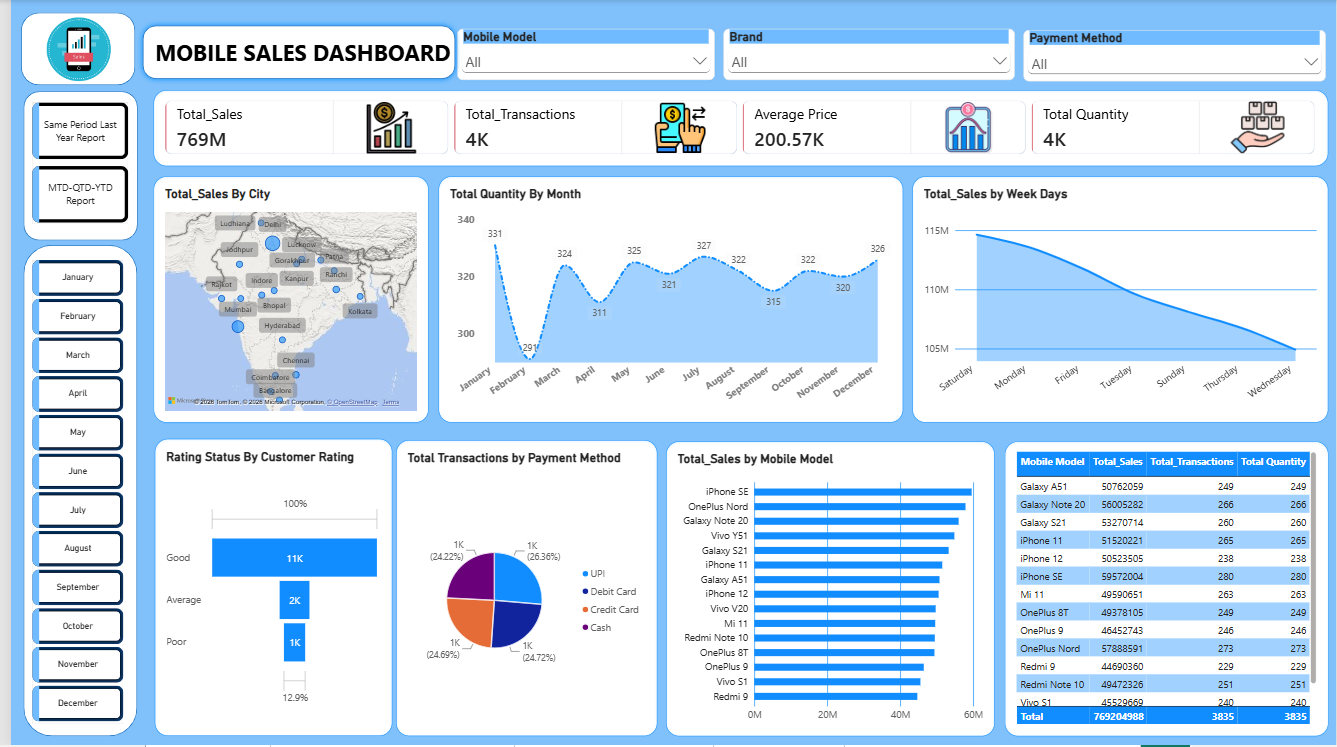

Layout of this report page (visuals, bound fields, positions):
{"tool":"powerbi","page":{"name":"DashBoard","canvas":[1920,1080],"ordinal":0},"visuals":[{"type":"shape","box":[14.6,18.5,165.4,105.4],"z":0},{"type":"image","box":[24.6,25.4,145.4,92.3],"z":1000},{"type":"shape","box":[18.1,354.7,164.7,711.2],"z":2000},{"type":"shape","box":[18.3,131.7,165.4,216.2],"z":3000},{"type":"advancedSlicerVisual","fields":{"Values":["Custom_Calender.Date.Variation.Date Hierarchy.Month"]},"box":[30.8,376.4,132.1,671.4],"z":4000},{"type":"cardVisual","fields":{"Data":["MoblieSales_Data.Total_Sales","MoblieSales_Data.Total_Transactions","MoblieSales_Data.Average Price","MoblieSales_Data.Total Quantity"]},"box":[206.3,130.3,1701.1,110.4],"z":5000},{"type":"slicer","fields":{"Values":["MoblieSales_Data.Mobile Model"]},"box":[646,41.6,372.8,74.2],"z":6000},{"type":"slicer","fields":{"Values":["MoblieSales_Data.Brand"]},"box":[1031.5,41.6,421.7,74.2],"z":7000},{"type":"slicer","fields":{"Values":["MoblieSales_Data.Payment Method"]},"box":[1466.2,43.4,437.9,74.2],"z":8000},{"type":"shape","box":[183.3,28.3,468.3,93.3],"z":9000},{"type":"textbox","box":[195,55,456.7,61.7],"z":10000},{"type":"map","title":" Total_Sales By City","fields":{"Category":["MoblieSales_Data.City"],"Size":["MoblieSales_Data.Total_Sales"]},"box":[206.3,255.2,398.1,356.5],"z":11000},{"type":"lineChart","title":"Total Quantity By Month","fields":{"Category":["Custom_Calender.Date.Variation.Date Hierarchy.Month"],"Y":["MoblieSales_Data.Total Quantity"]},"box":[618.9,255.2,673.2,356.5],"z":12000},{"type":"funnel","title":"Rating Status  By Customer Rating","fields":{"Category":["MoblieSales_Data.Rating Status"],"Y":["Sum(MoblieSales_Data.Customer Ratings)"]},"box":[208.1,635.2,343.8,430.7],"z":13000},{"type":"pieChart","title":"Total Transactions by Payment Method","fields":{"Category":["MoblieSales_Data.Payment Method"],"Y":["MoblieSales_Data.Total_Transactions"]},"box":[557.4,637,378.2,428.9],"z":14000},{"type":"clusteredBarChart","title":"Total_Sales by Mobile Model","fields":{"Category":["MoblieSales_Data.Mobile Model"],"Y":["MoblieSales_Data.Total_Sales"]},"box":[948.3,638.8,475.9,427.1],"z":15000},{"type":"tableEx","fields":{"Values":["MoblieSales_Data.Mobile Model","MoblieSales_Data.Total_Sales","MoblieSales_Data.Total_Transactions","MoblieSales_Data.Total Quantity"]},"box":[1438.7,638.8,468.7,427.1],"z":16000},{"type":"areaChart","title":"Total_Sales by Week Days","fields":{"Category":["MoblieSales_Data.Day name"],"Y":["MoblieSales_Data.Total_Sales"]},"box":[1304.8,255.2,602.6,356.5],"z":17000},{"type":"pageNavigator","box":[30.8,148.4,139.3,175.5],"z":18000}]}

Visuals, with their boxes in screenshot pixels (x1, y1, x2, y2), scaled from the page's 1920x1080 canvas onto the 1337x747 screenshot:
shape: pyautogui.locateOnScreen(10, 13, 125, 86)
image: pyautogui.locateOnScreen(17, 18, 118, 81)
shape: pyautogui.locateOnScreen(13, 245, 127, 737)
shape: pyautogui.locateOnScreen(13, 91, 128, 241)
advancedSlicerVisual - Custom_Calender.Date.Variation.Date Hierarchy.Month: pyautogui.locateOnScreen(21, 260, 113, 725)
cardVisual - MoblieSales_Data.Total_Sales x MoblieSales_Data.Total_Transactions: pyautogui.locateOnScreen(144, 90, 1328, 166)
slicer - MoblieSales_Data.Mobile Model: pyautogui.locateOnScreen(450, 29, 709, 80)
slicer - MoblieSales_Data.Brand: pyautogui.locateOnScreen(718, 29, 1012, 80)
slicer - MoblieSales_Data.Payment Method: pyautogui.locateOnScreen(1021, 30, 1326, 81)
shape: pyautogui.locateOnScreen(128, 20, 454, 84)
textbox: pyautogui.locateOnScreen(136, 38, 454, 81)
" Total_Sales By City" map: pyautogui.locateOnScreen(144, 177, 421, 423)
"Total Quantity By Month" lineChart: pyautogui.locateOnScreen(431, 177, 900, 423)
"Rating Status  By Customer Rating" funnel: pyautogui.locateOnScreen(145, 439, 384, 737)
"Total Transactions by Payment Method" pieChart: pyautogui.locateOnScreen(388, 441, 652, 737)
"Total_Sales by Mobile Model" clusteredBarChart: pyautogui.locateOnScreen(660, 442, 992, 737)
tableEx - MoblieSales_Data.Mobile Model x MoblieSales_Data.Total_Sales: pyautogui.locateOnScreen(1002, 442, 1328, 737)
"Total_Sales by Week Days" areaChart: pyautogui.locateOnScreen(909, 177, 1328, 423)
pageNavigator: pyautogui.locateOnScreen(21, 103, 118, 224)
